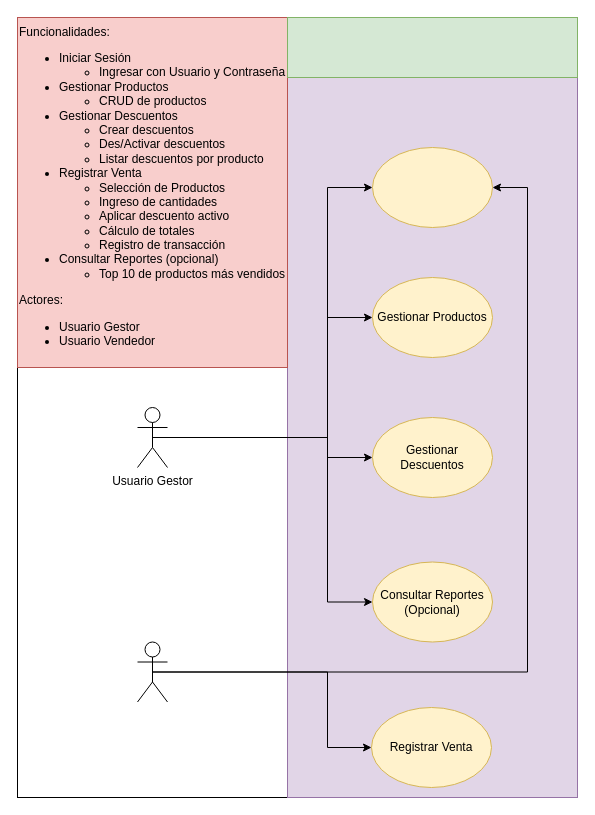
Some shapes in this 595 by 815 pixel diagram are drawn without their labels. Here are the shapes that lost their labels. From the top down, the centre of each, then its label:
At (x=432, y=47): "Sistema de Gestión de Ventas".
At (x=432, y=187): "Iniciar Sesión".
At (x=152, y=671): "Usuario Vendedor".
